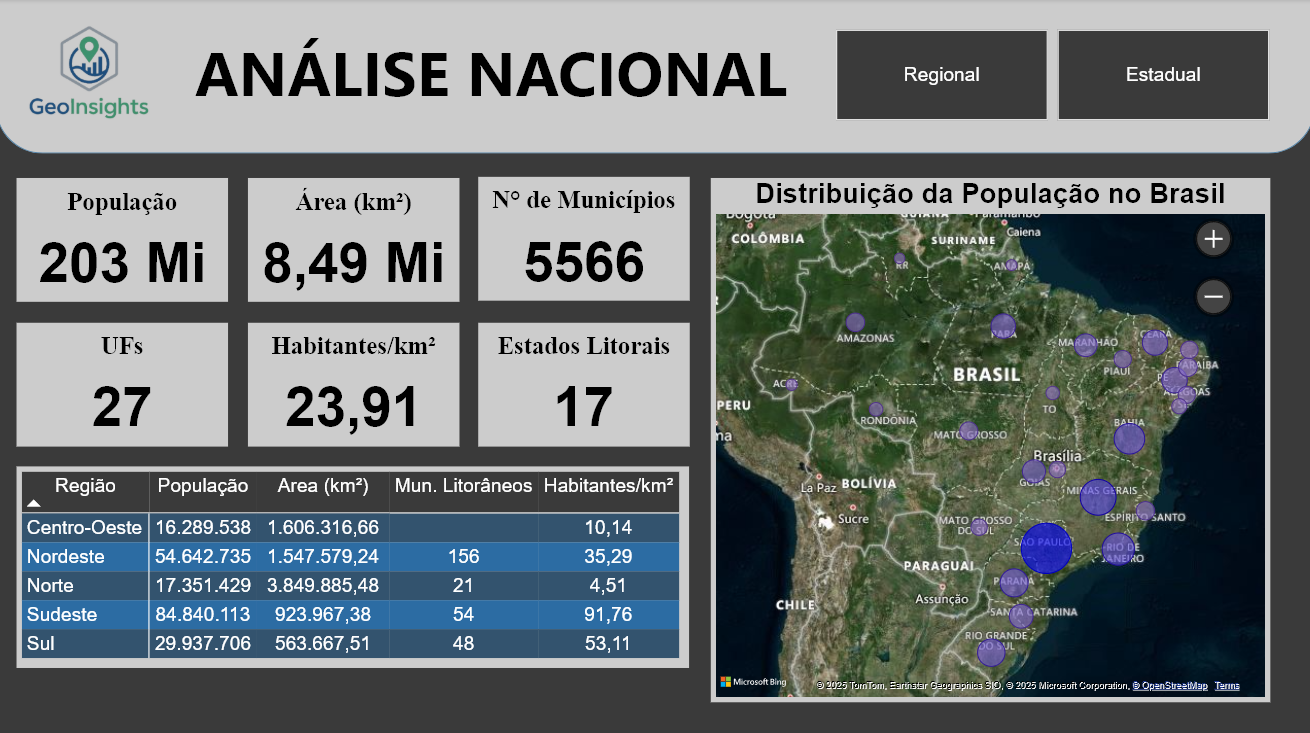

The dashboard page shown, as its layout file describes it:
{"tool":"powerbi","page":{"name":"Nacional","canvas":[1280,720],"ordinal":0},"visuals":[{"type":"shape","box":[0,0,1280,150.4],"z":0},{"type":"image","box":[0,0,179.9,148.9],"z":1000},{"type":"card","title":"N° de Municípios","fields":{"Values":["CountNonNull(Dados_Municipios.Município)"]},"box":[468,173.1,205,120],"z":2000},{"type":"card","title":"População","fields":{"Values":["Sum(Dados_Municipios.População)"]},"box":[20,173.7,205,120],"z":3000},{"type":"card","title":"UFs","fields":{"Values":["Count(Dados_Municipios.Unidade federativa)"]},"box":[20,314,205,120],"z":4000},{"type":"card","title":"Área (km²)","fields":{"Values":["Dados_Municipios.Area total"]},"box":[244,173.7,205,120],"z":5000},{"type":"card","title":"Habitantes/km²","fields":{"Values":["Dados_Municipios.Densidade Demográfica"]},"box":[244,314,205,120],"z":6000},{"type":"card","title":"Estados Litorais","fields":{"Values":["Count(Estados_Litoral.UF)"]},"box":[468,314,205,120.3],"z":7000},{"type":"map","title":"Distribuição da População no Brasil","fields":{"Y":["Avg(Coordenadas_Estados.Latitude)"],"X":["Avg(Coordenadas_Estados.Longitude)"],"Category":["Coordenadas_Estados.Estado"],"Size":["Sum(Dados_Municipios.População)"]},"box":[692.5,173.1,542.4,511.1],"z":8000},{"type":"pageNavigator","box":[815.8,29.5,420.3,88.4],"z":9000},{"type":"pivotTable","fields":{"Rows":["Coordenadas_Estados.Região"],"Values":["Sum(Dados_Municipios.População)","Dados_Municipios.Area total","Sum(Estados_Litoral.Quantidade)","Dados_Municipios.Densidade Demográfica"]},"box":[19.9,453.6,652.7,195.8],"z":10000}]}

Visuals, with their boxes in screenshot pixels (x1, y1, x2, y2), scaled from the page's 1280x720 canvas onto the 1310x733 screenshot:
shape: [0,0,1309,153]
image: [0,0,184,152]
"N° de Municípios" card: [479,176,689,298]
"População" card: [20,177,230,299]
"UFs" card: [20,320,230,442]
"Área (km²)" card: [250,177,460,299]
"Habitantes/km²" card: [250,320,460,442]
"Estados Litorais" card: [479,320,689,442]
"Distribuição da População no Brasil" map: [709,176,1264,697]
pageNavigator: [835,30,1265,120]
pivotTable - Coordenadas_Estados.Região x Sum(Dados_Municipios.População): [20,462,688,661]
